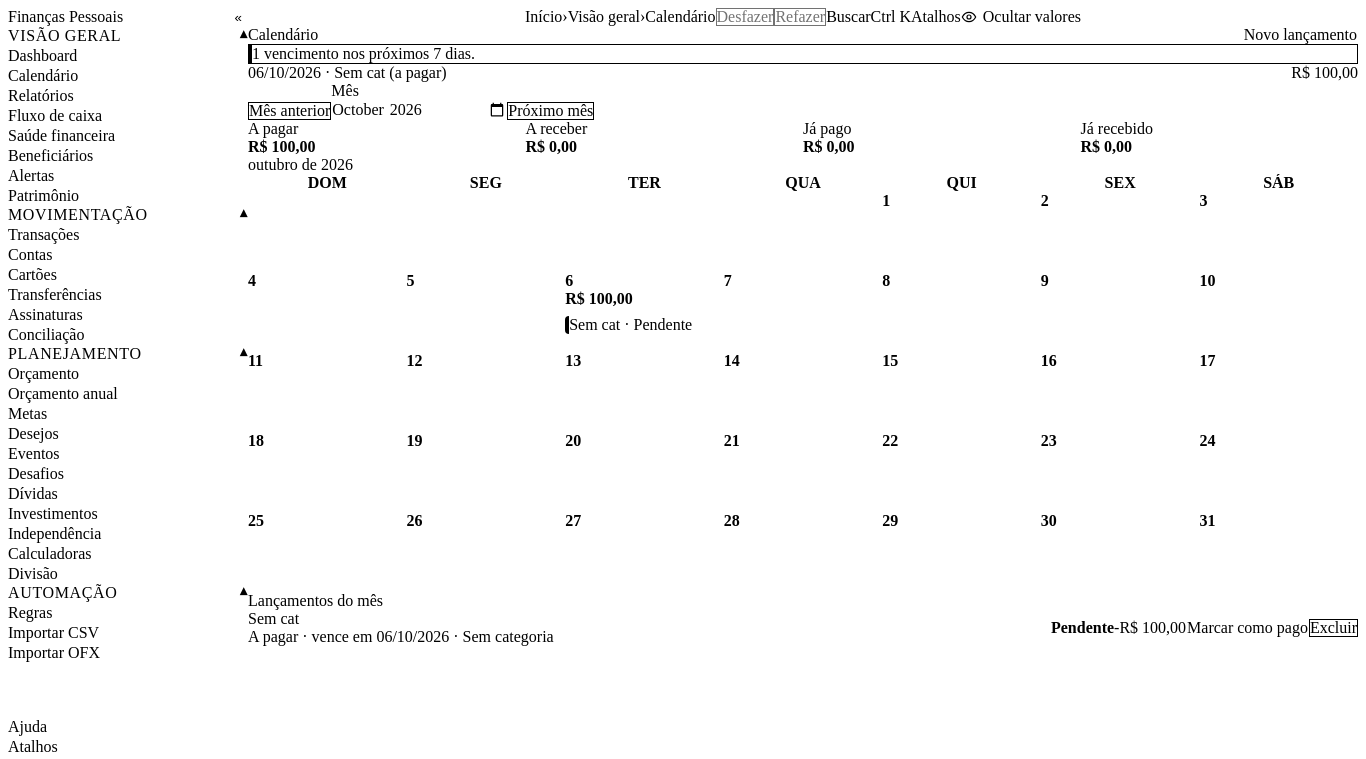
Test: calendário: tela › critério 9: a baixa mostra o erro da categoria junto ao campo
Click the button with aria-label "Marcar como pago: Sem cat". click: (1248, 628)
box: [1186,619,1309,637]
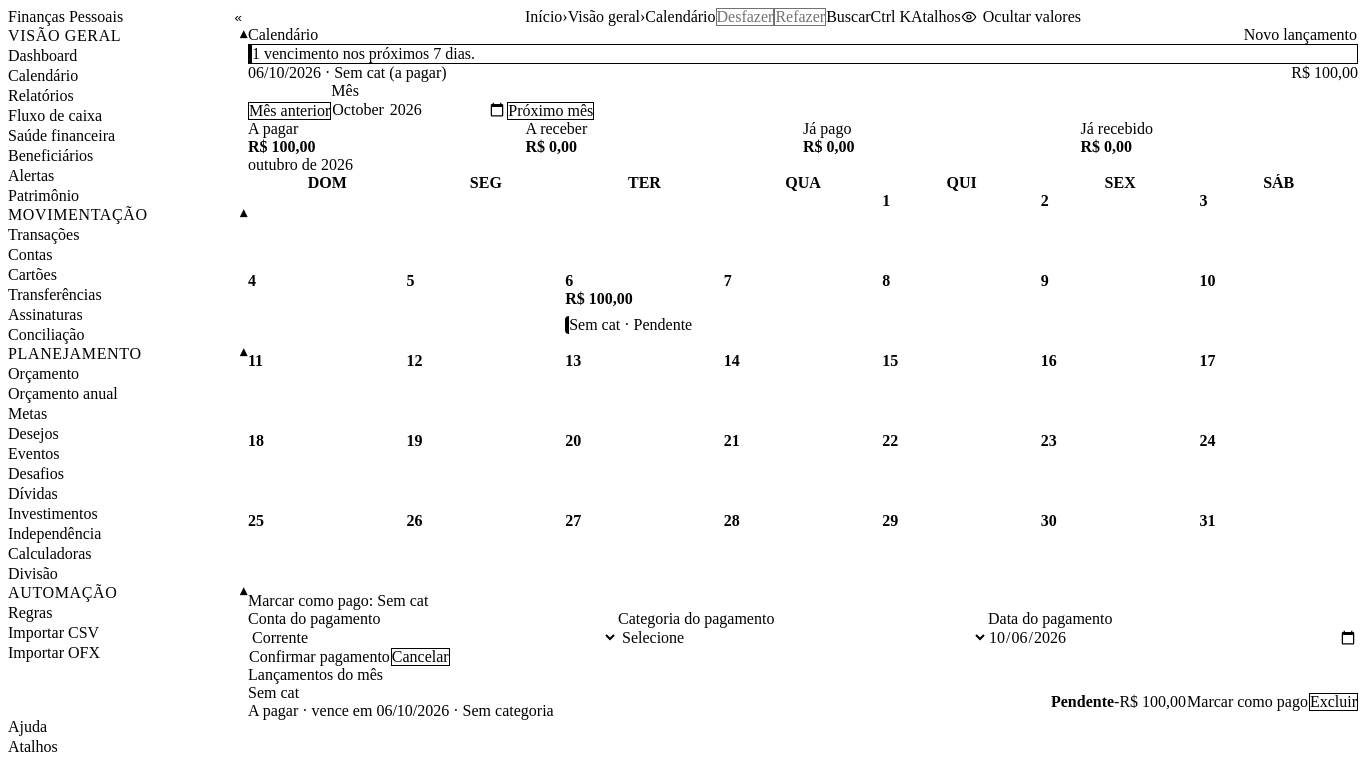
Click the button "Confirmar pagamento". click: (319, 657)
box: [248,648,391,666]
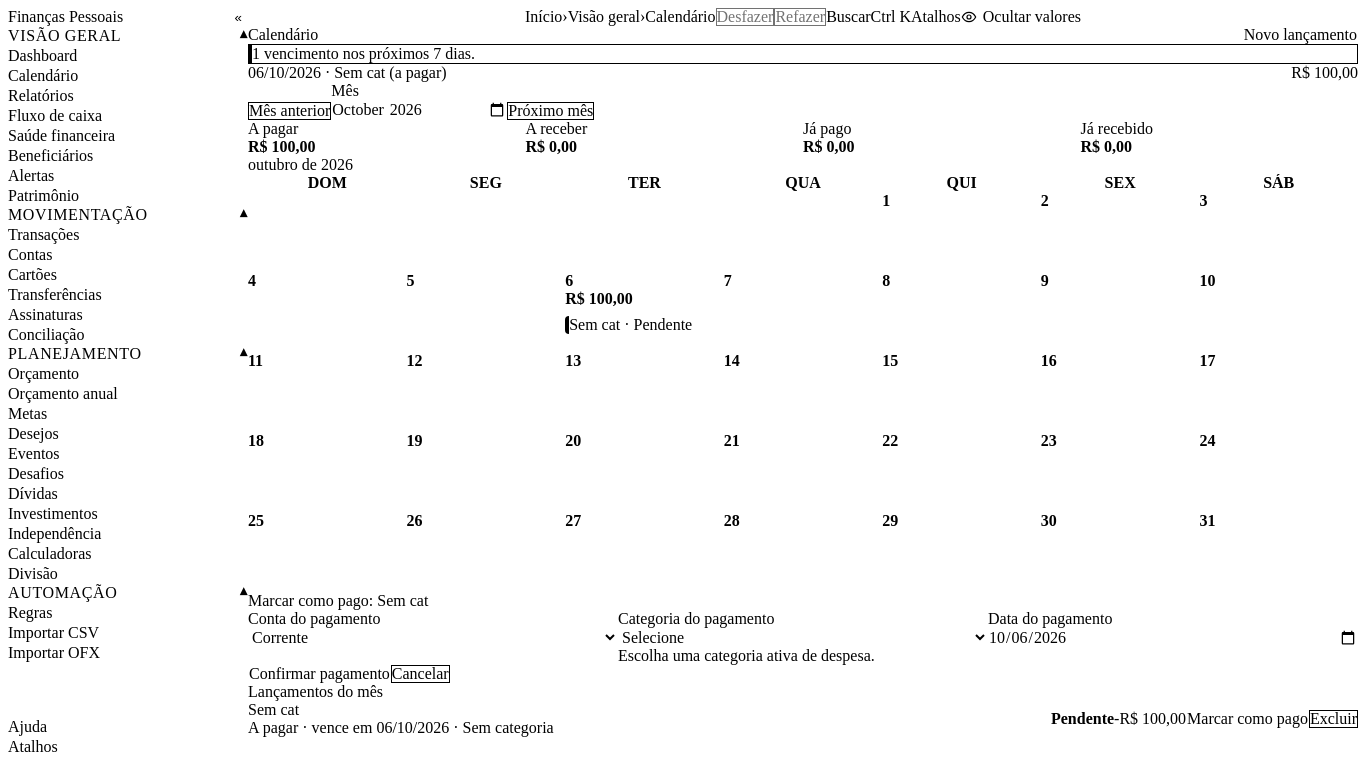
Result: the message "Escolha uma categoria ativa de despesa." is shown at [618,647,875,664]
